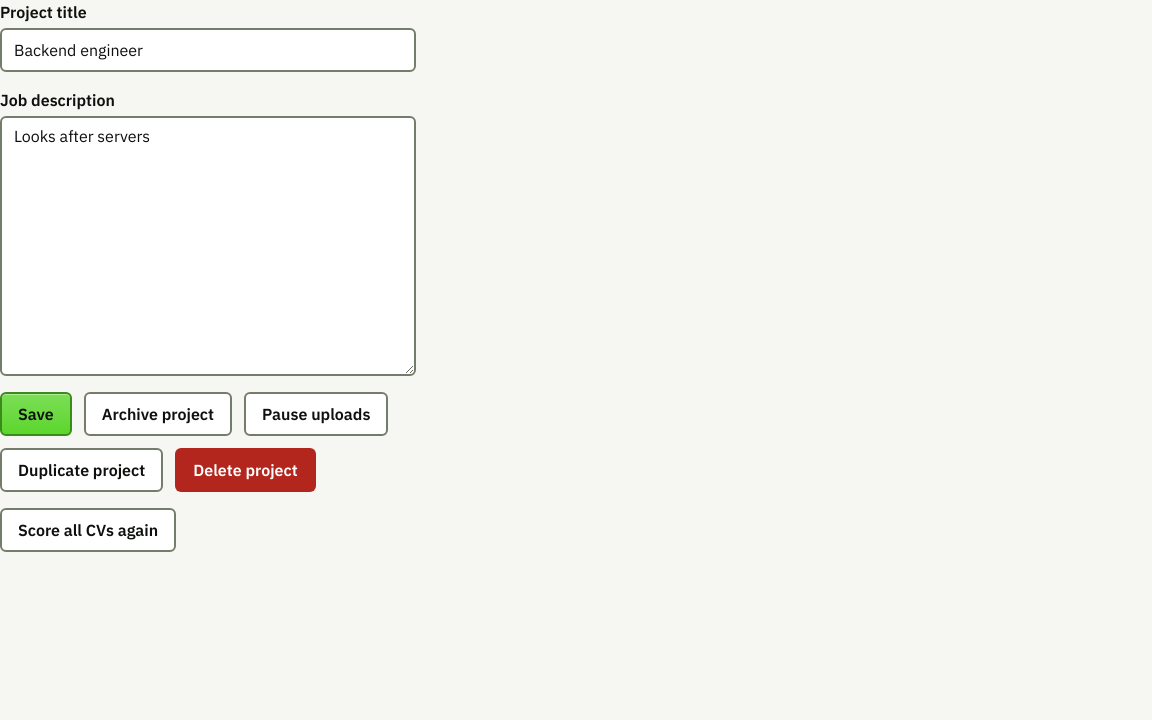
it: project settings › Archive asks first, then archives and shows Restore
The width and height of the screenshot is (1152, 720).
Click the button "Archive project".
click(158, 414)  # box left=84, top=392, right=232, bottom=436
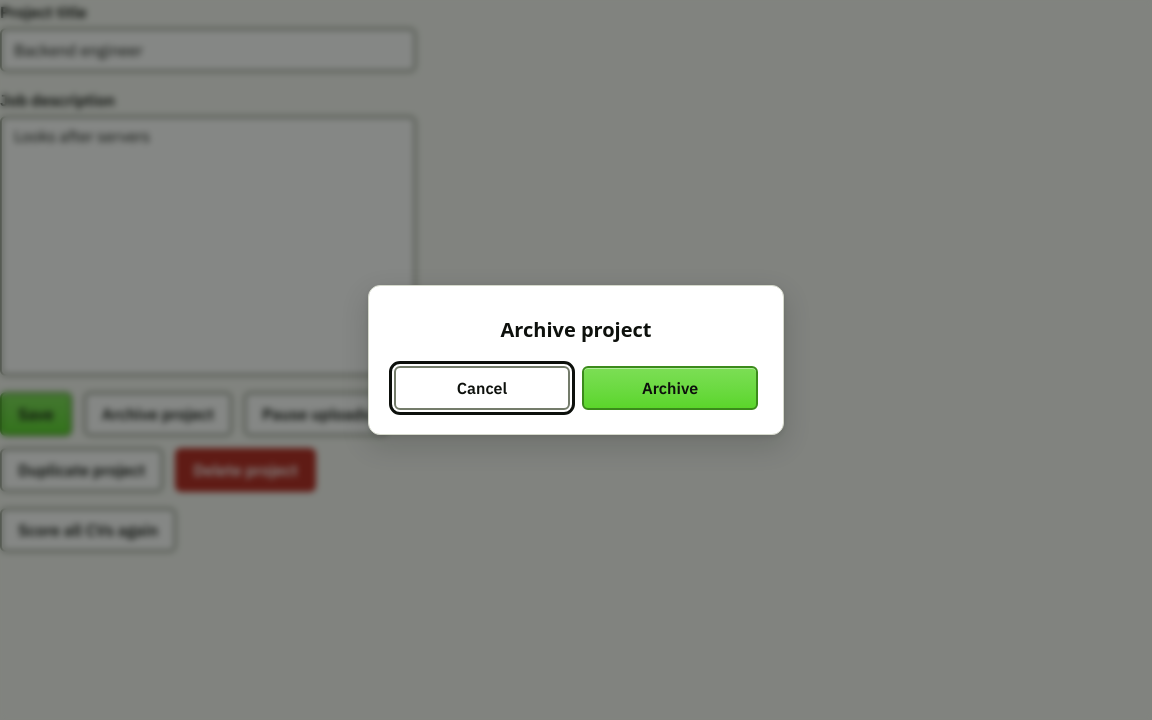
Click the button "Archive".
click(670, 388)  # box left=582, top=366, right=758, bottom=410
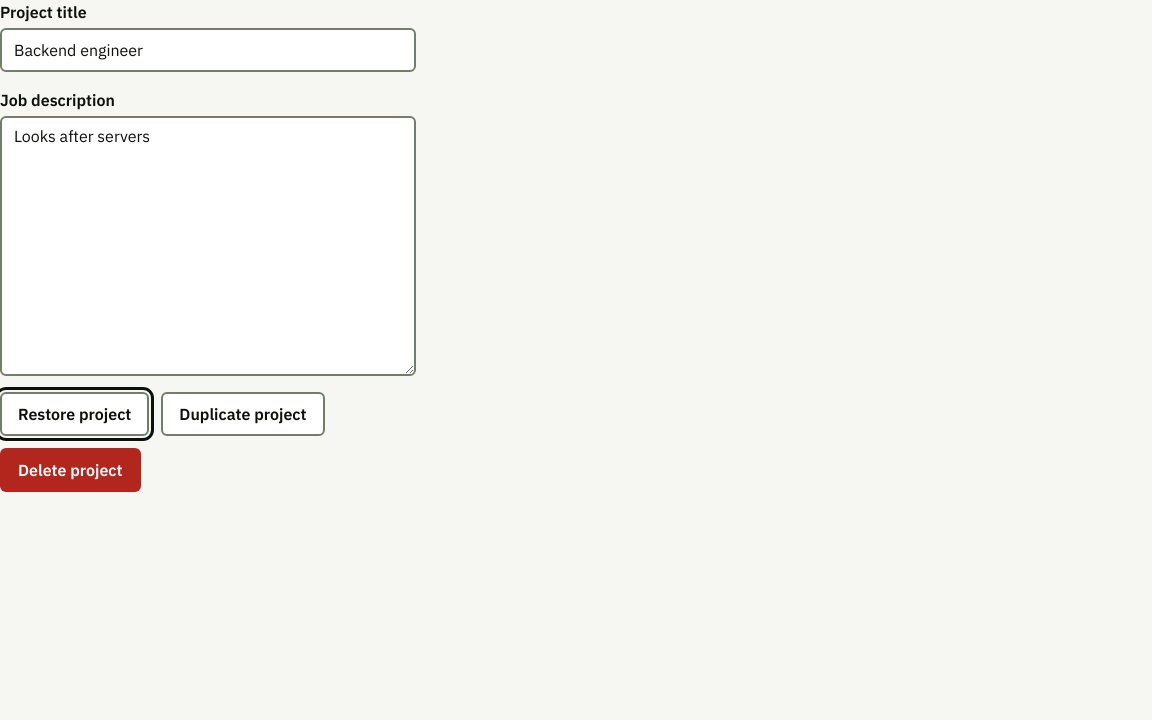
Expected: the button "Restore project" is shown, left=0, top=392, right=149, bottom=436
